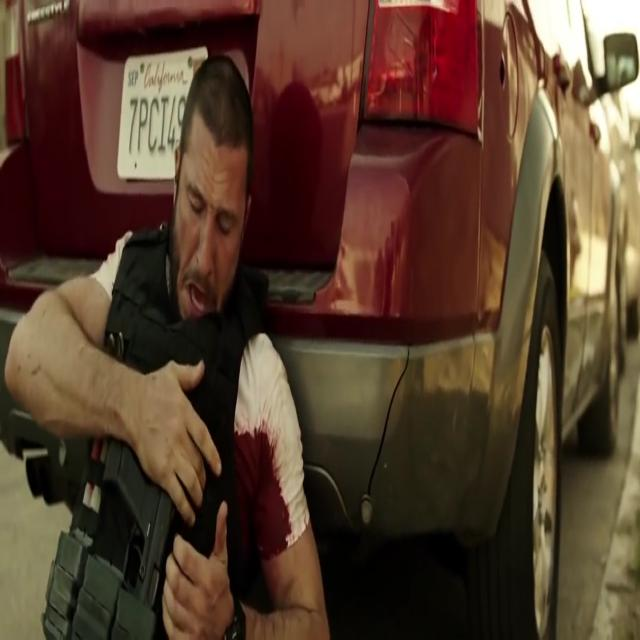Weapon: (104, 430, 187, 635)
